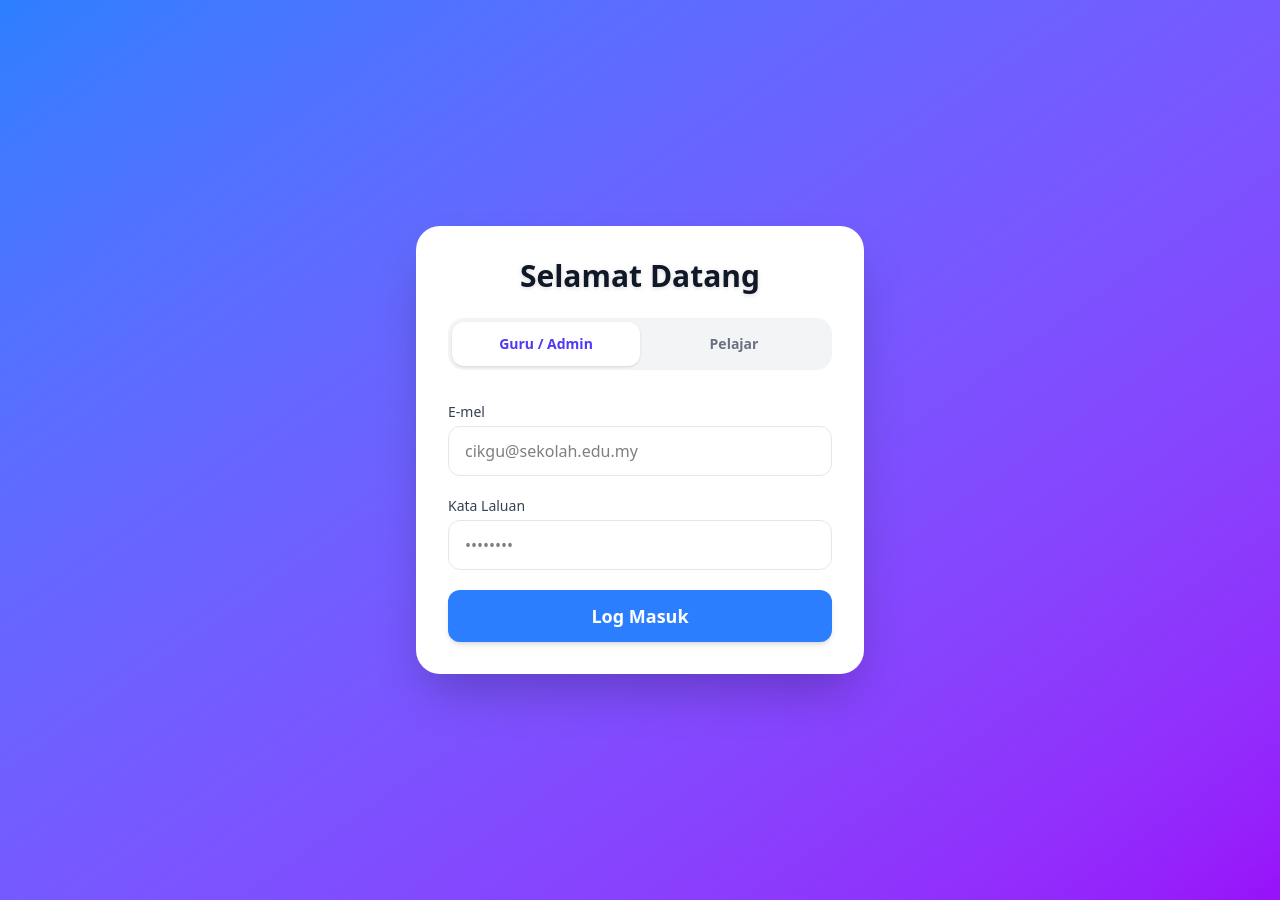
Test: Login Page › hides email form when Pelajar tab is selected
This screenshot has width=1280, height=900.
Click the tab "Pelajar" at (734, 344), box [640, 322, 828, 366]
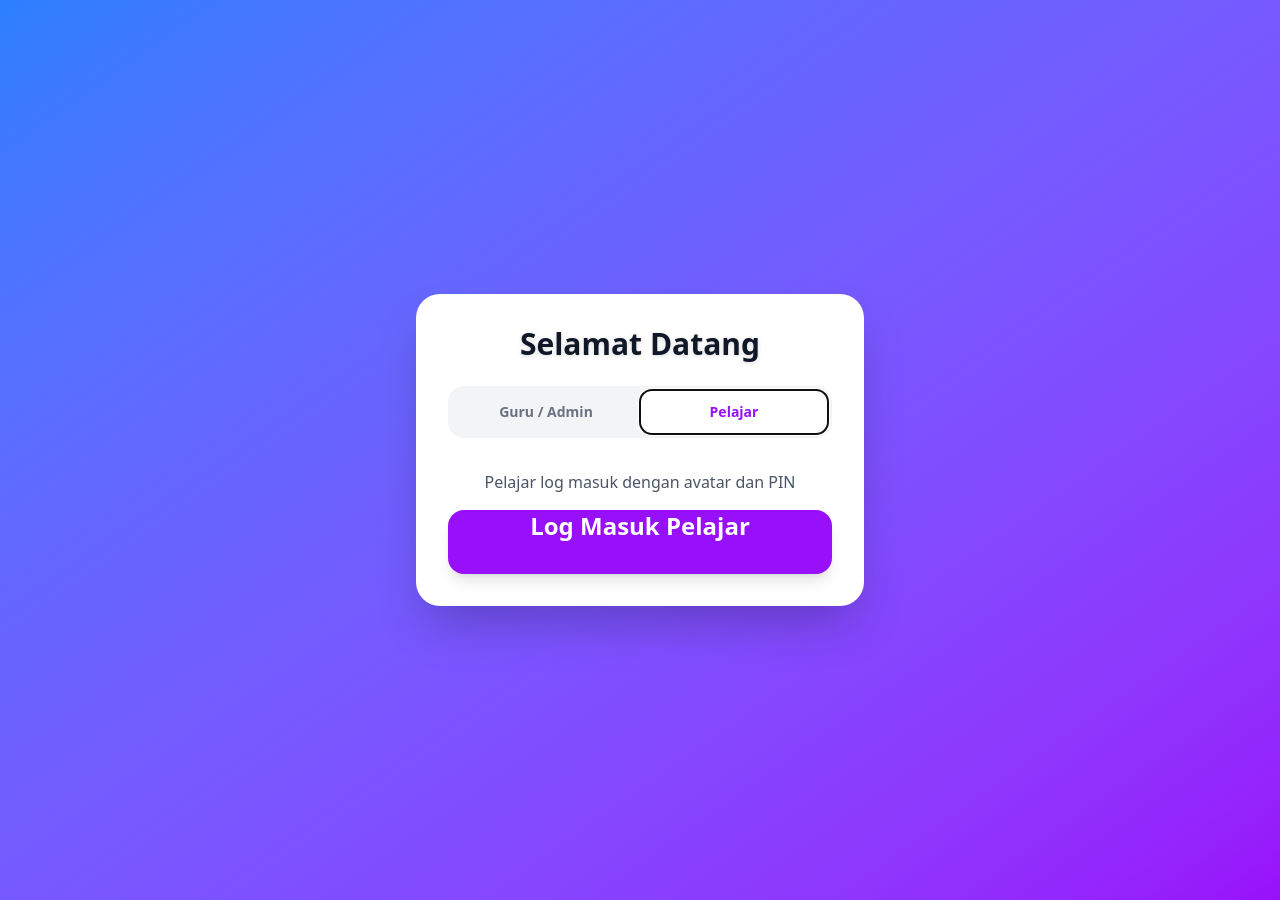
expect the label labelled "E-mel" is gone: met
expect the label labelled "Kata Laluan" is gone: met
